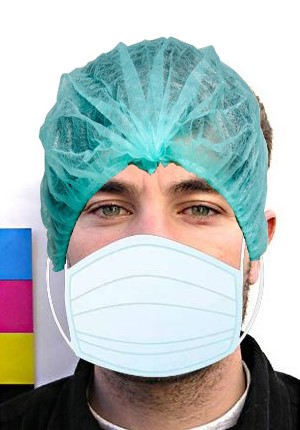with_mask_and_cap: (39, 38, 271, 382)
